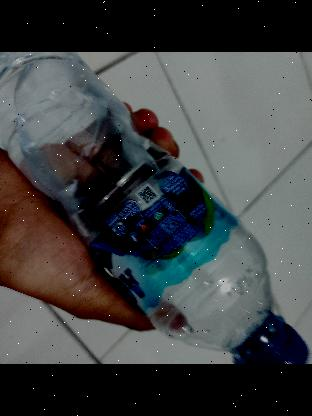Plastic Bottle: (0, 55, 312, 364)
